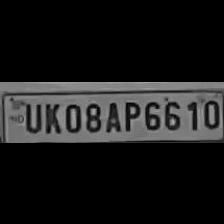0: (60, 99, 82, 133), (200, 96, 220, 128)
1: (182, 96, 200, 130)
6: (142, 97, 160, 131), (162, 97, 180, 131)
8: (83, 99, 103, 133)
A: (102, 97, 120, 132)
K: (42, 99, 62, 134)
P: (120, 96, 140, 132)
U: (21, 99, 41, 133)
